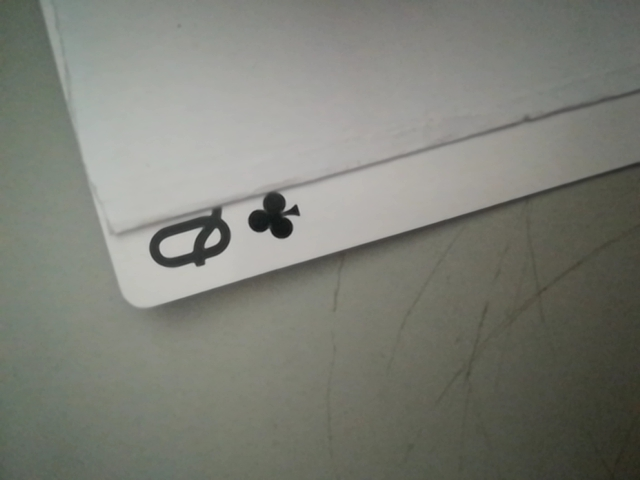mh q: (126, 185, 318, 288)
